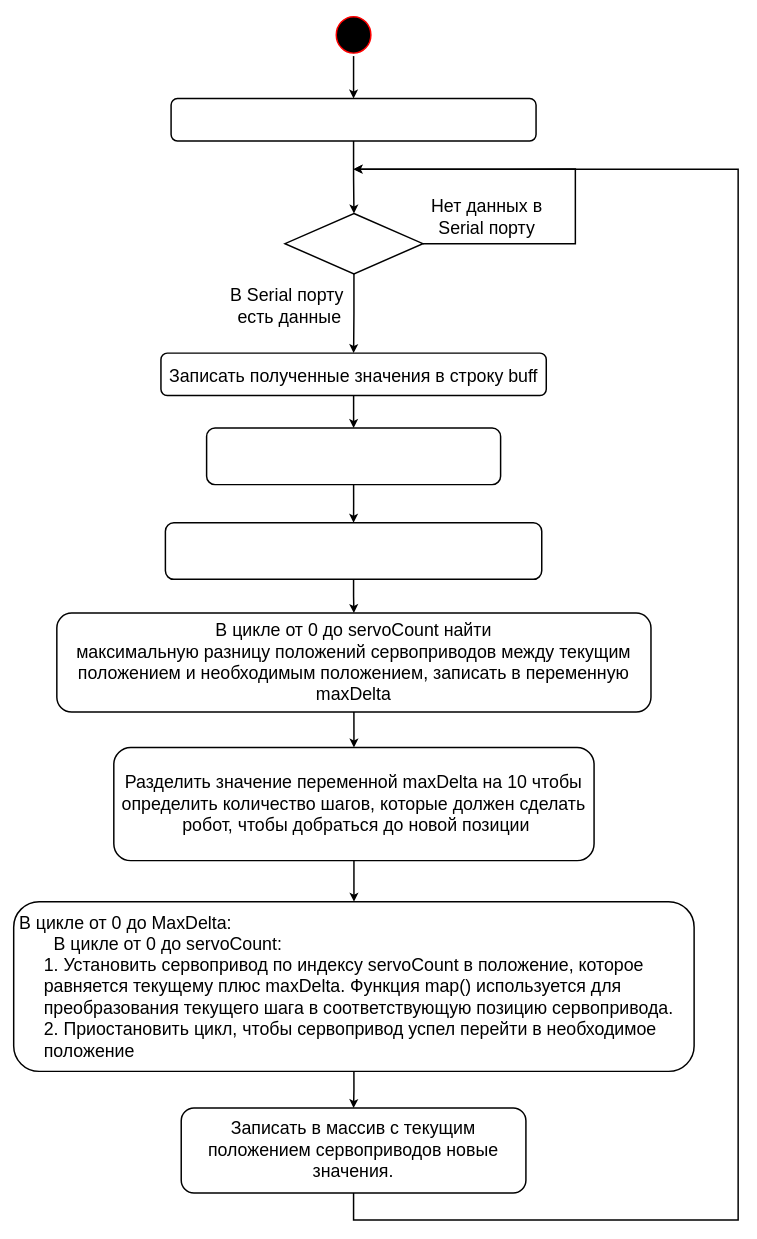
This 757x1239 diagram has some shape labels left out. Here are the shapes that lost their labels. From the top down, the box of each, then its label:
(170, 97, 536, 141): Установить робота в стартовое положение
(205, 427, 501, 485): Получить числовые значения из buff и записать в массив command
(164, 522, 542, 580): В цикле проверить все значения, чтобы они находились в диапазоне от 540 до 2400
